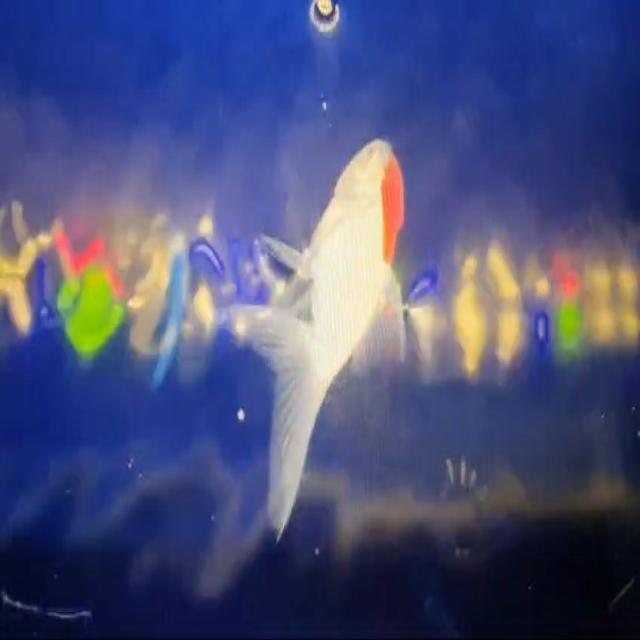fish: (237, 127, 409, 551)
